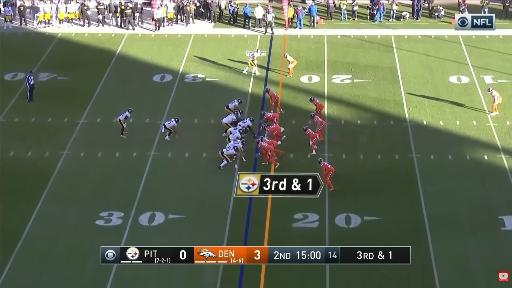Helmet: (302, 125, 309, 132), (237, 98, 243, 105), (261, 123, 267, 130), (238, 129, 244, 135), (241, 139, 246, 146), (258, 136, 264, 141), (318, 158, 323, 164), (238, 109, 243, 115), (174, 118, 180, 123), (256, 139, 261, 144), (284, 53, 289, 58), (488, 88, 493, 93), (234, 111, 239, 116), (128, 109, 133, 113), (310, 97, 314, 102), (261, 111, 266, 115), (249, 118, 254, 122), (266, 88, 270, 93), (310, 114, 315, 118), (234, 147, 238, 151)
Jersey: (264, 113, 279, 124), (248, 51, 259, 66), (266, 125, 282, 135), (227, 140, 243, 150), (228, 132, 242, 142), (306, 129, 318, 140), (227, 99, 239, 110), (118, 111, 130, 122), (313, 116, 325, 127), (164, 119, 177, 129), (238, 119, 252, 128), (320, 162, 334, 171), (222, 114, 236, 123), (258, 142, 272, 151), (491, 91, 501, 103), (222, 147, 236, 155), (264, 139, 278, 147), (268, 91, 278, 102), (249, 51, 259, 62), (66, 3, 75, 14), (227, 127, 239, 135), (312, 99, 323, 107), (43, 3, 51, 13), (58, 3, 65, 14), (4, 7, 12, 16), (287, 55, 296, 63)
Player: (257, 139, 279, 167), (318, 159, 334, 190), (303, 126, 319, 154), (243, 49, 260, 75), (259, 136, 283, 154), (266, 88, 283, 113), (118, 109, 133, 137), (219, 147, 238, 169), (227, 140, 246, 161), (162, 118, 180, 140), (311, 114, 326, 140), (261, 124, 285, 140), (488, 88, 502, 115), (222, 111, 239, 133), (238, 118, 255, 137), (285, 53, 297, 77), (310, 97, 324, 117), (259, 136, 281, 147), (262, 111, 279, 125), (225, 99, 242, 112), (227, 129, 244, 142), (4, 3, 12, 29), (227, 140, 245, 150), (234, 109, 244, 126), (223, 127, 240, 137)
